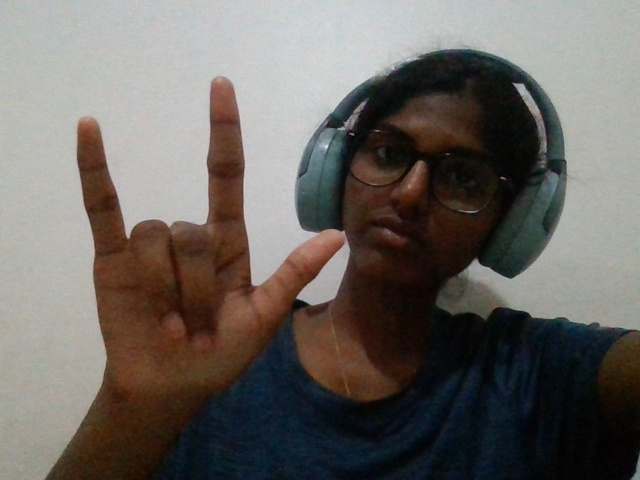I Love You: (41, 60, 357, 443)
